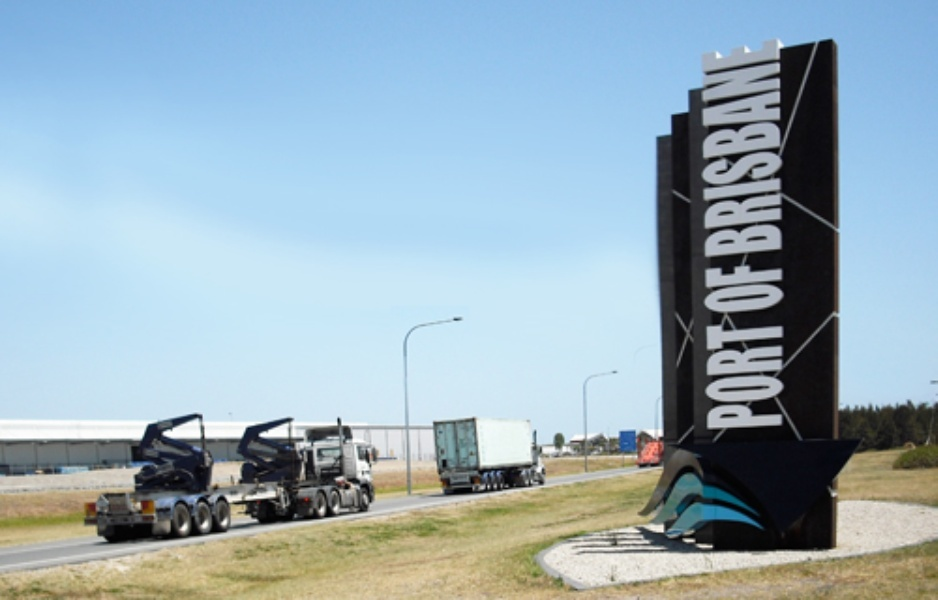text: (705, 32, 720, 259), (721, 32, 736, 259), (737, 32, 752, 259), (753, 32, 768, 259), (769, 32, 783, 259), (769, 323, 785, 432), (705, 323, 720, 432), (721, 323, 736, 432), (737, 323, 752, 432), (753, 323, 768, 432), (700, 32, 704, 259), (705, 257, 720, 314), (721, 257, 736, 314), (737, 257, 752, 314), (753, 257, 768, 314), (769, 257, 784, 314), (700, 257, 704, 314), (785, 257, 787, 314)
